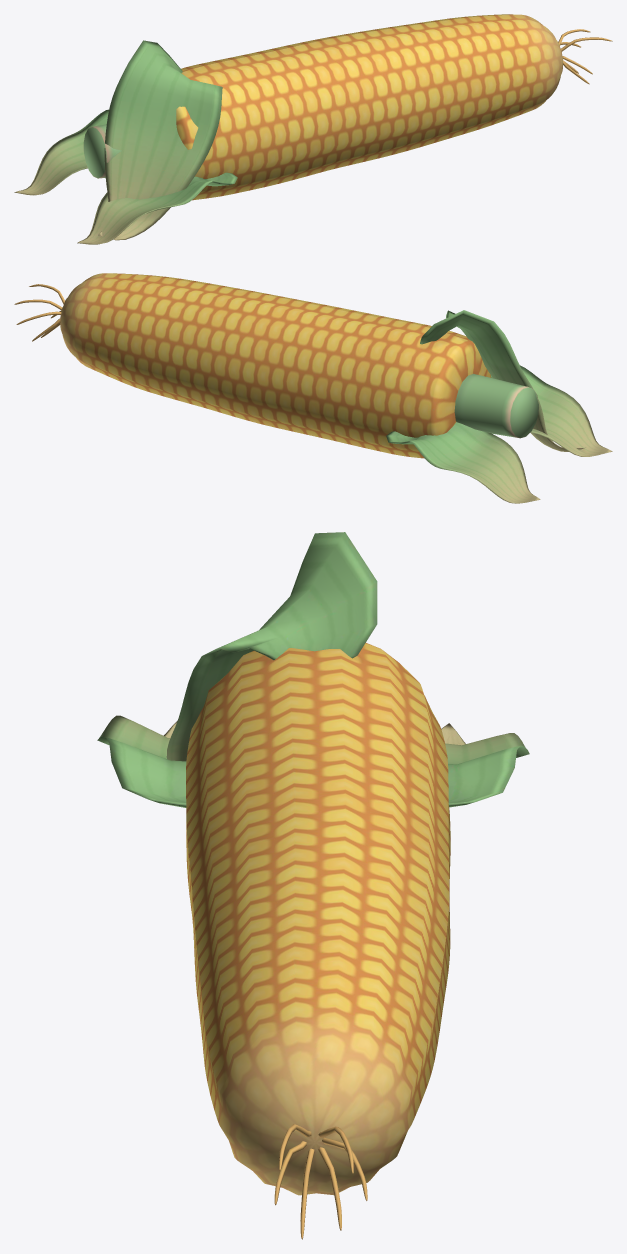
The model's file is corn-cob.glb.
The picture shows the model from 3 angles, top to bottom: view 1: azimuth 30°, elevation 25°; view 2: azimuth 150°, elevation 25°; view 3: azimuth 270°, elevation 25°; orthographic projection. The views are drawn at different scales.
Parts seen in each view (by area): view 1: corn-cob_body; view 2: corn-cob_body; view 3: corn-cob_body.
Part boxes in pixels (x1,y1,x2,y2): corn-cob_body: (14,14,612,244); corn-cob_body: (14,273,612,503); corn-cob_body: (97,532,529,1239).
Size of the model in its own units: 0.2358 by 0.0646 by 0.0789.
1 material, 1 textured.
